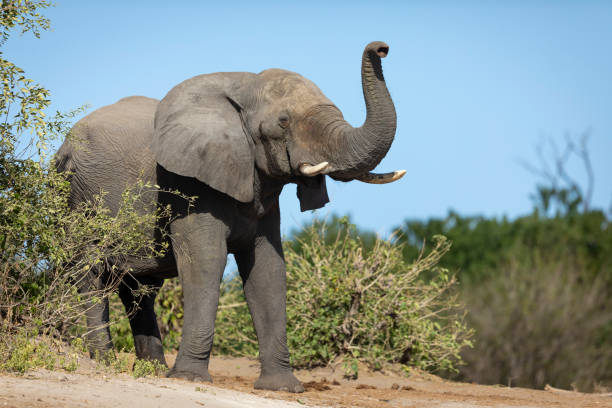africanelephant: (230, 70, 391, 211)
